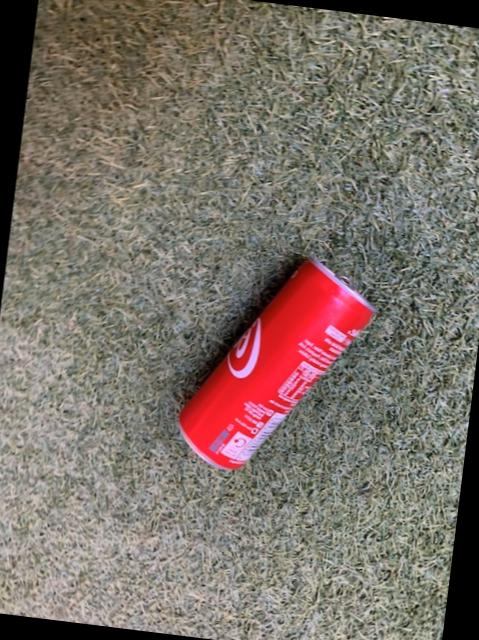metal: (177, 260, 372, 469)
